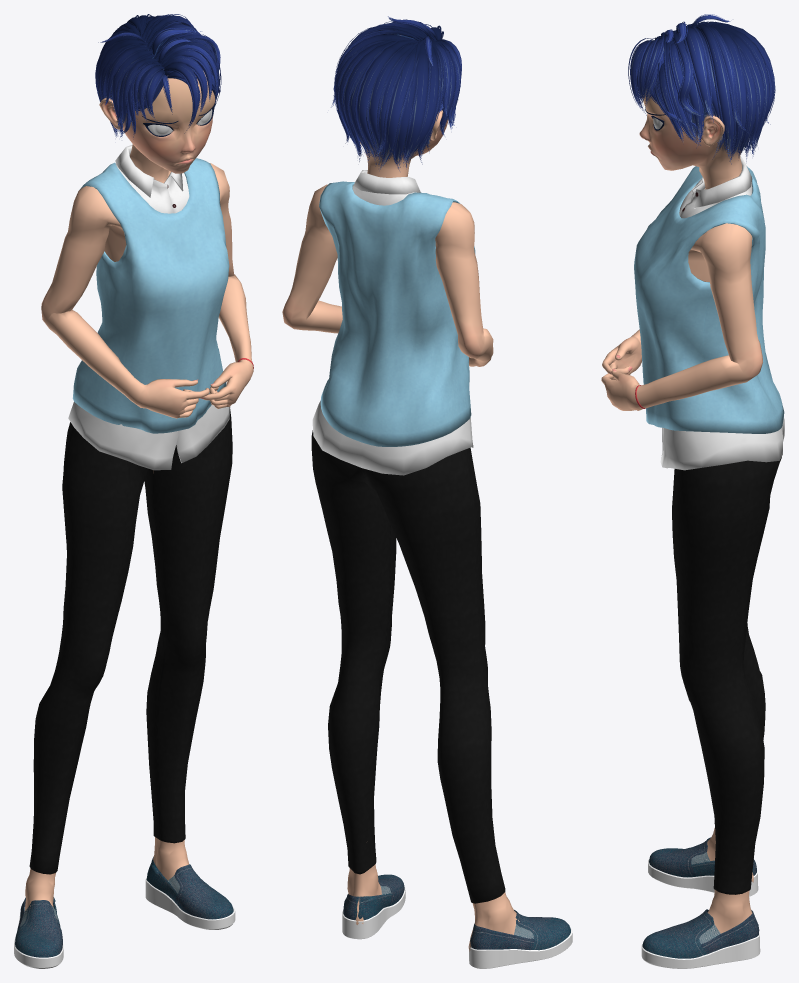
File: Girl blue hair_dudehtm free version.fbx
3 renders of one model, left to right at view 1: azimuth 30°, elevation 25°; view 2: azimuth 150°, elevation 25°; view 3: azimuth 270°, elevation 25°, orthographic. The views are drawn at different scales.
Parts seen in each view (by area): view 1: Pants, bodice, body, hair mid RES, shirt, shoe left, shoe right; view 2: Pants, bodice, hair mid RES, body, shirt, shoe right, shoe left; view 3: Pants, bodice, body, hair mid RES, shirt, shoe left, shoe right, ear.
Part boxes in pixels (<box>): Pants: <box>29,409,232,874</box>; bodice: <box>72,158,229,433</box>; body: <box>24,23,253,910</box>; hair mid RES: <box>95,14,221,137</box>; shirt: <box>68,145,230,470</box>; shoe left: <box>145,857,235,929</box>; shoe right: <box>14,897,63,968</box>; Pants: <box>311,430,505,903</box>; bodice: <box>319,181,475,446</box>; hair mid RES: <box>331,16,461,170</box>; body: <box>282,34,519,951</box>; shirt: <box>312,170,473,475</box>; shoe right: <box>469,910,572,968</box>; shoe left: <box>342,874,405,939</box>; Pants: <box>672,457,781,894</box>; bodice: <box>634,166,784,433</box>; body: <box>601,62,762,933</box>; hair mid RES: <box>628,14,775,164</box>; shirt: <box>660,156,784,470</box>; shoe left: <box>641,909,760,968</box>; shoe right: <box>648,837,758,896</box>; ear: <box>701,115,724,146</box>.
Bounding box in the file's own units: 44.74 × 156 × 28.16.
8 materials, 7 textured.
